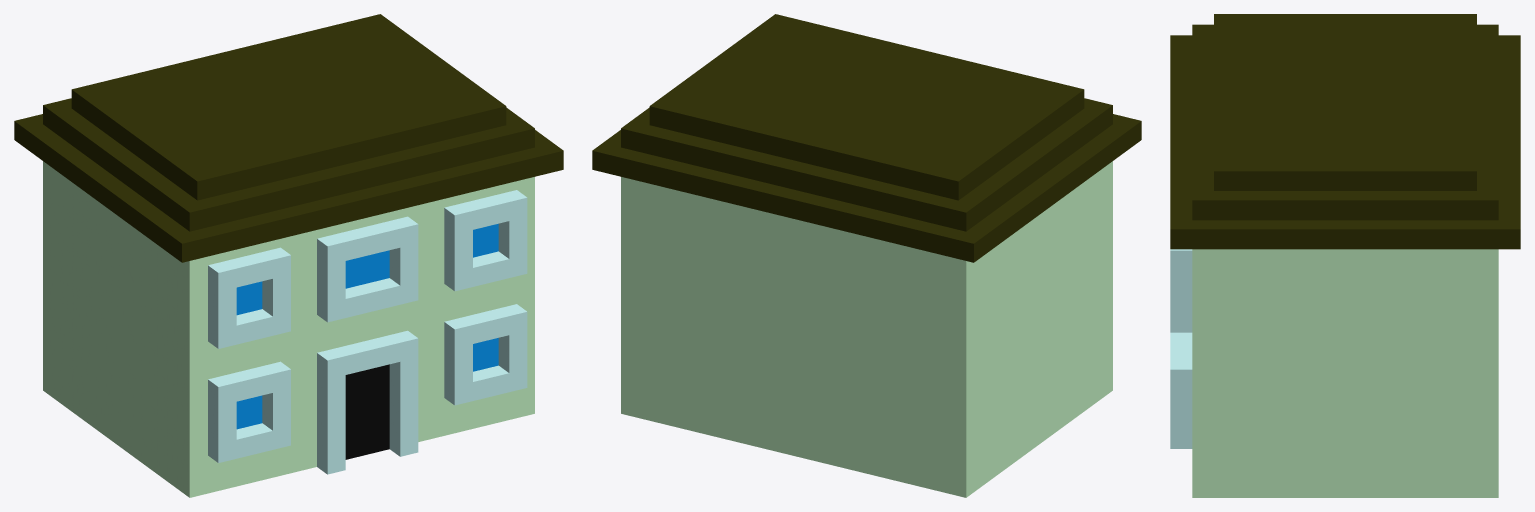
Rendered from casa1.fbx.
3 views of the same model, side by side, from view 1: azimuth 30°, elevation 25°; view 2: azimuth 150°, elevation 25°; view 3: azimuth 270°, elevation 25° (orthographic). The views are drawn at different scales.
Visible parts, largest first — view 1: Cubo.1654; view 2: Cubo.1654; view 3: Cubo.1654.
Boxes of the visible parts, x1,y1,x2,y2 form: Cubo.1654: (14,14,563,497); Cubo.1654: (592,14,1141,497); Cubo.1654: (1170,14,1520,497).
Bounding box in the file's own units: 2100 × 1600 × 1600.
